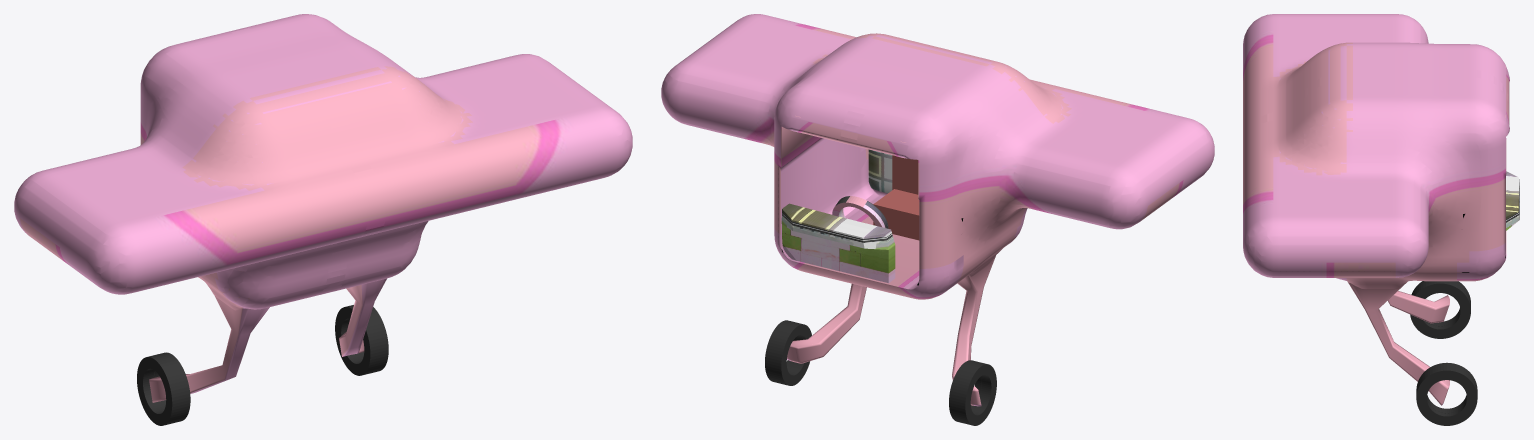
File: car.glb
3 renders of one model, left to right at view 1: azimuth 30°, elevation 25°; view 2: azimuth 150°, elevation 25°; view 3: azimuth 270°, elevation 25°, orthographic. The views are drawn at different scales.
Parts seen in each view (by area): view 1: vehicle_body_wing_left, vehicle_body_center, vehicle_body_roof, vehicle_body_wing_right, vehicle_body_legs, wheel_left, wheel_right; view 2: vehicle_body_wing_left, vehicle_body_roof, vehicle_body_center, vehicle_body_wing_right, dashboard, vehicle_body_legs, seat, wheel_left, wheel_right, steering_wheel; view 3: vehicle_body_wing_right, vehicle_body_roof, vehicle_body_center, vehicle_body_wing_left, vehicle_body_legs, wheel_right, wheel_left, dashboard.
Boxes of the visible parts, <box> form: vehicle_body_wing_left: <box>14,85,280,294</box>; vehicle_body_center: <box>140,80,474,309</box>; vehicle_body_roof: <box>141,14,438,157</box>; vehicle_body_wing_right: <box>415,54,632,211</box>; vehicle_body_legs: <box>149,278,386,402</box>; wheel_left: <box>137,352,190,425</box>; wheel_right: <box>335,305,388,375</box>; vehicle_body_wing_left: <box>947,87,1214,280</box>; vehicle_body_roof: <box>775,33,1040,156</box>; vehicle_body_center: <box>774,79,1062,299</box>; vehicle_body_wing_right: <box>661,14,855,146</box>; dashboard: <box>781,203,895,283</box>; vehicle_body_legs: <box>787,256,995,406</box>; seat: <box>873,155,919,240</box>; wheel_left: <box>949,360,996,425</box>; wheel_right: <box>765,320,811,385</box>; steering_wheel: <box>832,196,888,228</box>; vehicle_body_wing_right: <box>1243,143,1481,277</box>; vehicle_body_roof: <box>1296,42,1508,149</box>; vehicle_body_center: <box>1243,67,1509,284</box>; vehicle_body_wing_left: <box>1243,14,1428,101</box>; vehicle_body_legs: <box>1348,283,1449,405</box>; wheel_right: <box>1416,362,1477,425</box>; wheel_left: <box>1410,281,1470,338</box>; dashboard: <box>1506,171,1519,230</box>.
Bounding box in the file's own units: 8.8 × 5.52 × 4.52.
4 materials, 2 textured.
